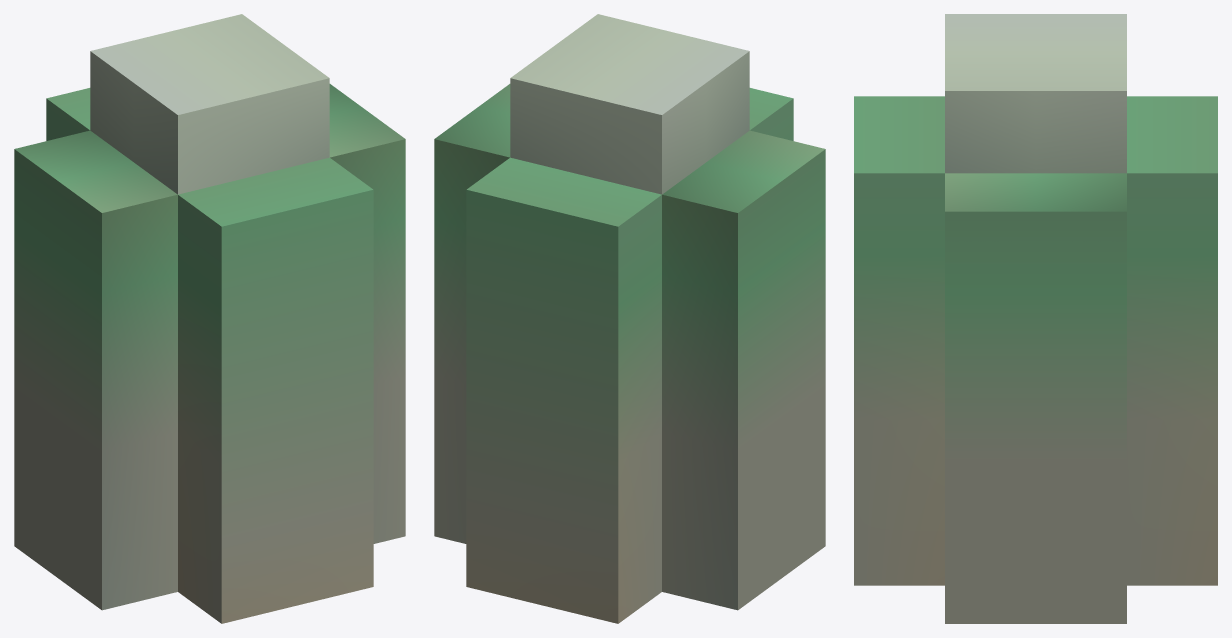
File: ContainerGreen_01.obj
The picture shows the model from 3 angles, left to right: view 1: azimuth 30°, elevation 25°; view 2: azimuth 150°, elevation 25°; view 3: azimuth 270°, elevation 25°; orthographic projection. The views are drawn at different scales.
Visible parts, largest first — view 1: ContainerGreen_01; view 2: ContainerGreen_01; view 3: ContainerGreen_01.
Part boxes in pixels (<box>): ContainerGreen_01: <box>14,14,405,623</box>; ContainerGreen_01: <box>434,14,825,623</box>; ContainerGreen_01: <box>854,14,1217,623</box>.
Bounding box in the file's own units: 0.2 × 0.3 × 0.2.
